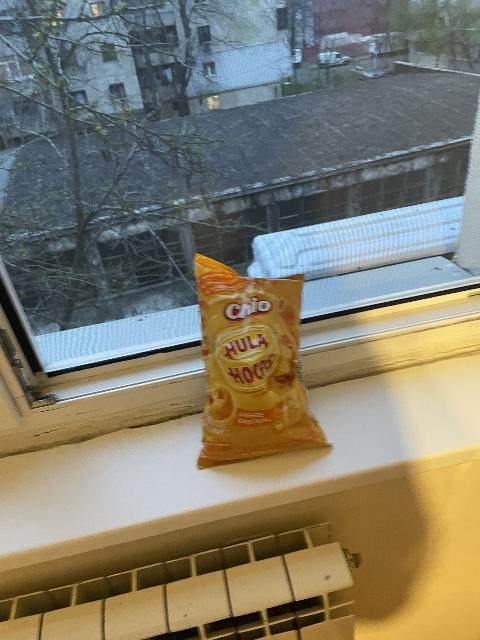Chio Hula Hoops Cheese 70g: (196, 258, 335, 466)
